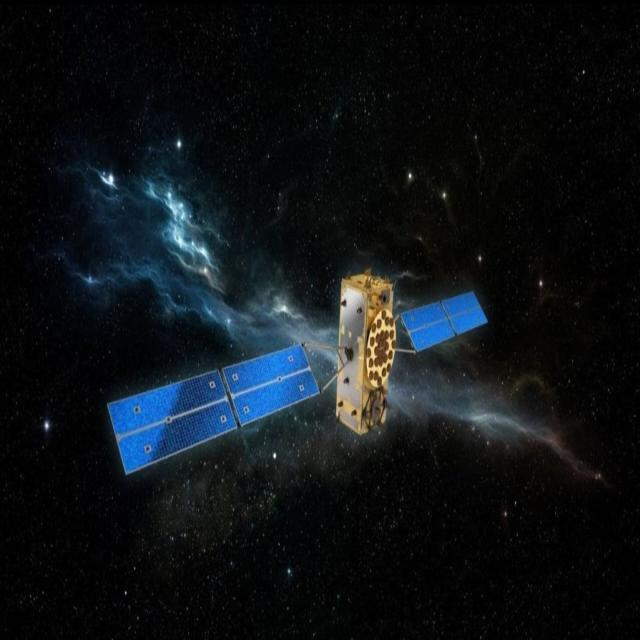sat: (105, 254, 495, 495)
